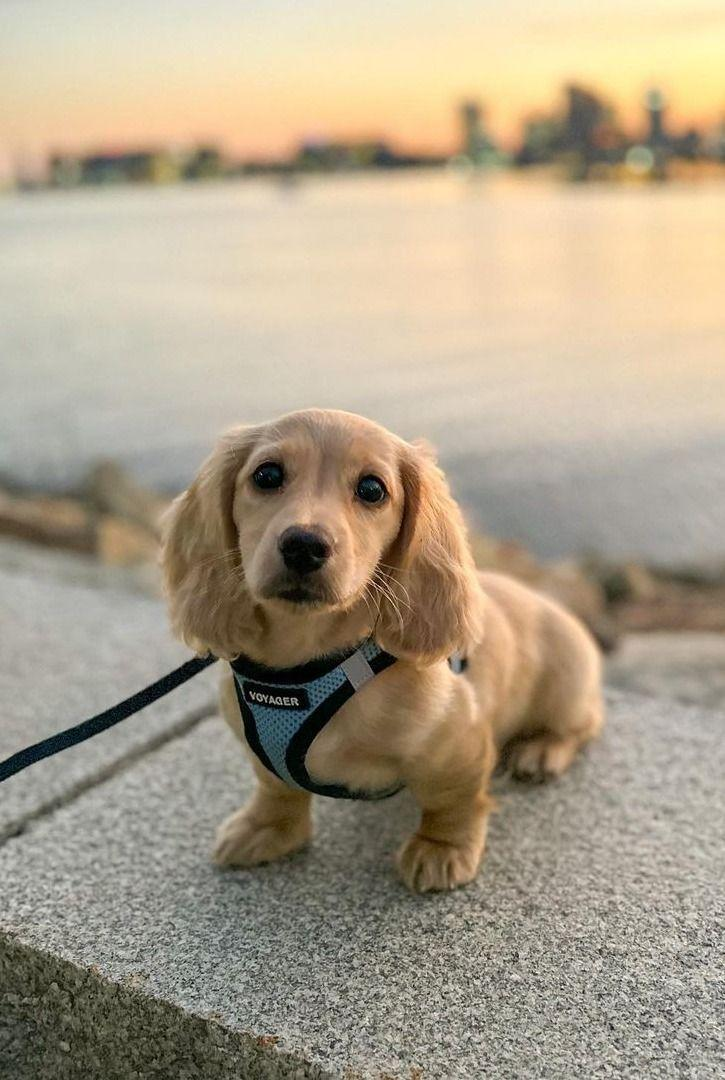dog: (163, 409, 602, 890)
